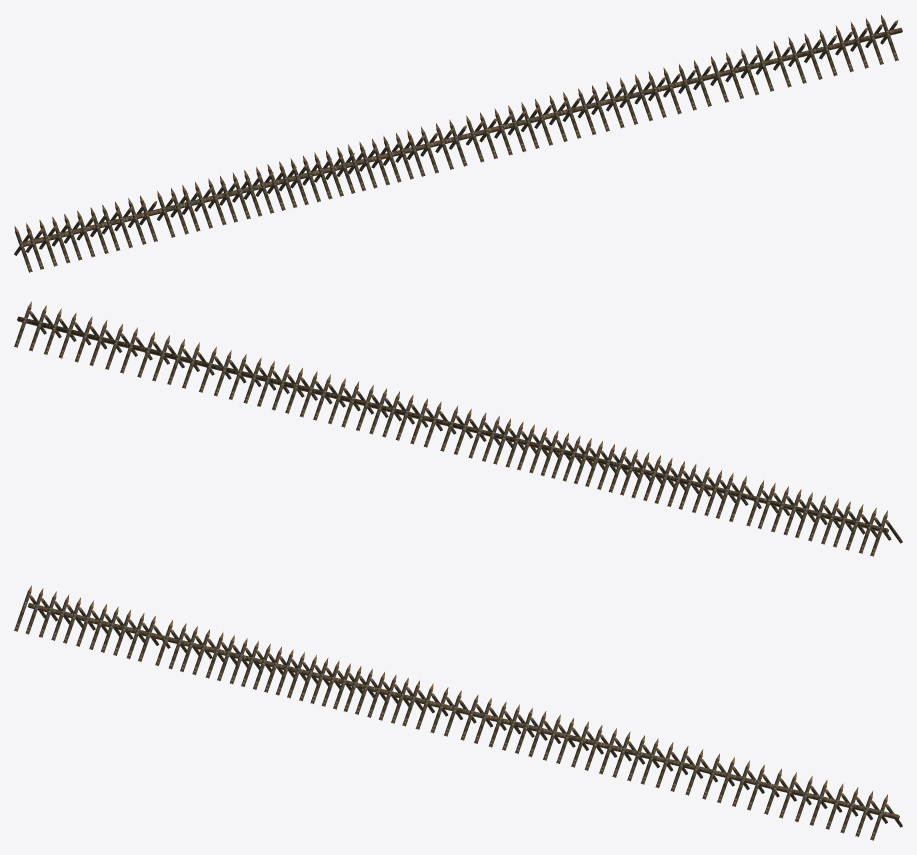
Rendered from barricade_04.glb.
The picture shows the model from 3 angles, top to bottom: view 1: azimuth 30°, elevation 25°; view 2: azimuth 150°, elevation 25°; view 3: azimuth 330°, elevation 25°; orthographic projection.
Parts seen in each view (by area): view 1: res\artifact\guild\barricade\barricade_04.bsr; view 2: res\artifact\guild\barricade\barricade_04.bsr; view 3: res\artifact\guild\barricade\barricade_04.bsr.
Part boxes in pixels (x1,y1,x2,y2): res\artifact\guild\barricade\barricade_04.bsr: [14, 15, 902, 272]; res\artifact\guild\barricade\barricade_04.bsr: [14, 301, 902, 556]; res\artifact\guild\barricade\barricade_04.bsr: [14, 585, 902, 840].
Bounding box in the file's own units: 402 × 15.73 × 18.92.
2 materials, 2 textured.
